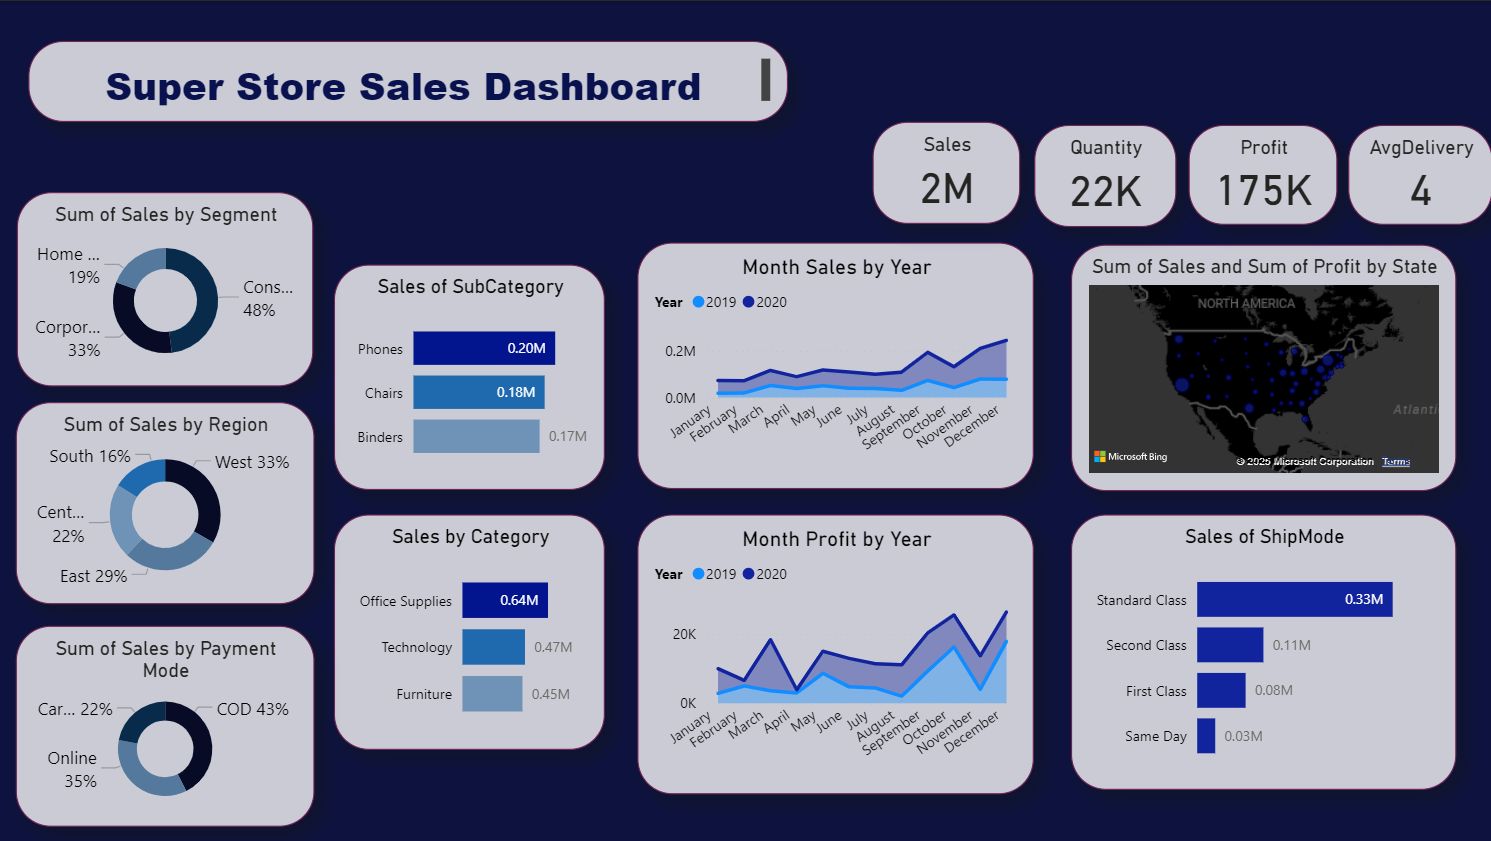

The page's visual inventory and layout, read from the dashboard file:
{"tool":"powerbi","page":{"name":"Page 1","canvas":[1280,720],"ordinal":0},"visuals":[{"type":"clusteredBarChart","title":" Sales by Category","fields":{"Category":["Sheet1.Category"],"Y":["Sum(Sheet1.Sales)"]},"box":[285.9,440.4,232.8,201.5],"z":0},{"type":"clusteredBarChart","title":" Sales of SubCategory","fields":{"Category":["Sheet1.Sub-Category"],"Y":["Sum(Sheet1.Sales)"]},"box":[285.9,225.6,232.8,193],"z":1000},{"type":"clusteredBarChart","title":" Sales of ShipMode","fields":{"Category":["Sheet1.Ship Mode"],"Y":["Sum(Sheet1.Sales)"]},"box":[918.1,440.4,330.6,236.5],"z":2000},{"type":"stackedAreaChart","title":"Month Sales by Year","fields":{"Y":["Sum(Sheet1.Sales)"],"Series":["Sheet1.Order Date.Variation.Date Hierarchy.Year"],"Category":["Sheet1.Order Date.Variation.Date Hierarchy.Month"]},"box":[546.5,207.5,340.2,211.1],"z":3000},{"type":"stackedAreaChart","title":"Month Profit by Year","fields":{"Series":["Sheet1.Order Date.Variation.Date Hierarchy.Year"],"Category":["Sheet1.Order Date.Variation.Date Hierarchy.Month"],"Y":["Sum(Sheet1.Profit)"]},"box":[546.5,440.4,340.2,240.1],"z":4000},{"type":"map","fields":{"Category":["Sheet1.State"],"Size":["Sum(Sheet1.Sales)"]},"box":[918.1,208.7,330.6,211.1],"z":5000},{"type":"donutChart","fields":{"Category":["Sheet1.Segment"],"Y":["Sum(Sheet1.Sales)"]},"box":[14.5,164.1,254.6,166.5],"z":6000},{"type":"donutChart","fields":{"Category":["Sheet1.Payment Mode"],"Y":["Sum(Sheet1.Sales)"]},"box":[13.3,535.7,255.8,172.5],"z":7000},{"type":"card","title":"Sales","fields":{"Values":["Sum(Sheet1.Sales)"]},"box":[748,103.8,126.7,88.1],"z":8000},{"type":"card","title":"Quantity","fields":{"Values":["Sum(Sheet1.Quantity)"]},"box":[886.7,106.2,121.9,88.1],"z":9000},{"type":"card","title":"Profit","fields":{"Values":["Sum(Sheet1.Profit)"]},"box":[1019.4,106.2,127.9,85.7],"z":10000},{"type":"card","title":"AvgDelivery","fields":{"Values":["Avg(Sheet1.AvgDelivery)"]},"box":[1155.8,106.2,124.3,85.7],"z":11000},{"type":"textbox","box":[24.1,33.8,651.5,70],"z":12000},{"type":"donutChart","fields":{"Y":["Sum(Sheet1.Sales)"],"Category":["Sheet1.Region"]},"box":[13.3,343.8,255.8,173.7],"z":14000}]}

Visuals, with their boxes in screenshot pixels (x1, y1, x2, y2), scaled from the page's 1280x720 canvas onto the 1491x841 screenshot:
" Sales by Category" clusteredBarChart: Rect(333, 514, 604, 750)
" Sales of SubCategory" clusteredBarChart: Rect(333, 264, 604, 489)
" Sales of ShipMode" clusteredBarChart: Rect(1069, 514, 1455, 791)
"Month Sales by Year" stackedAreaChart: Rect(637, 242, 1033, 489)
"Month Profit by Year" stackedAreaChart: Rect(637, 514, 1033, 795)
map - Sheet1.State x Sum(Sheet1.Sales): Rect(1069, 244, 1455, 490)
donutChart - Sheet1.Segment x Sum(Sheet1.Sales): Rect(17, 192, 313, 386)
donutChart - Sheet1.Payment Mode x Sum(Sheet1.Sales): Rect(15, 626, 313, 827)
"Sales" card: Rect(871, 121, 1019, 224)
"Quantity" card: Rect(1033, 124, 1175, 227)
"Profit" card: Rect(1187, 124, 1336, 224)
"AvgDelivery" card: Rect(1346, 124, 1490, 224)
textbox: Rect(28, 39, 787, 121)
donutChart - Sum(Sheet1.Sales) x Sheet1.Region: Rect(15, 402, 313, 604)
